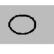no answer: (5, 12, 40, 37)
